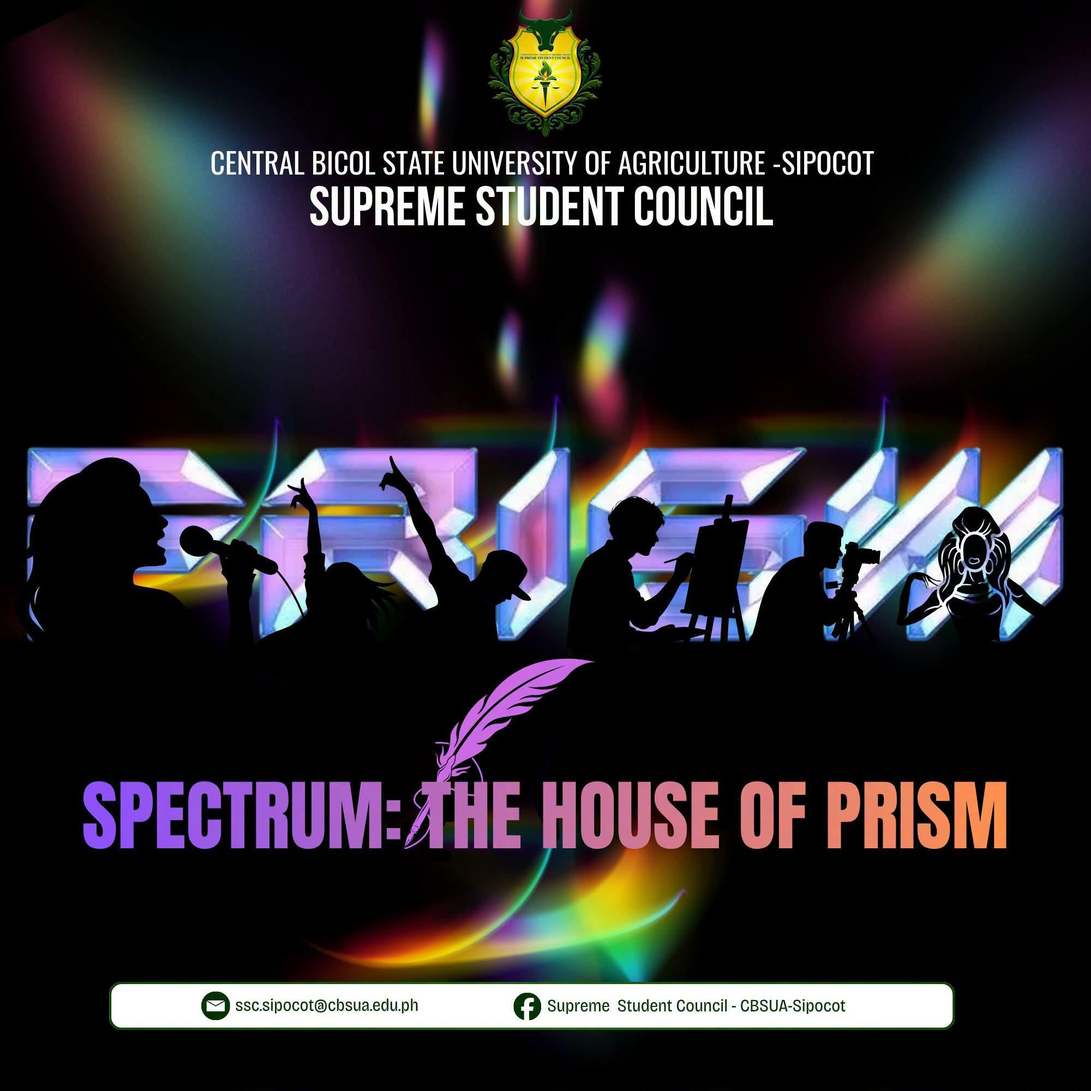embellishment: (400, 656, 604, 847), (510, 990, 543, 1021), (200, 990, 233, 1021)
logo: (480, 13, 609, 144)
text: (19, 440, 1064, 644), (76, 771, 1016, 858), (204, 140, 886, 235), (546, 993, 849, 1016), (232, 996, 424, 1016)
underlay: (111, 983, 955, 1028)
